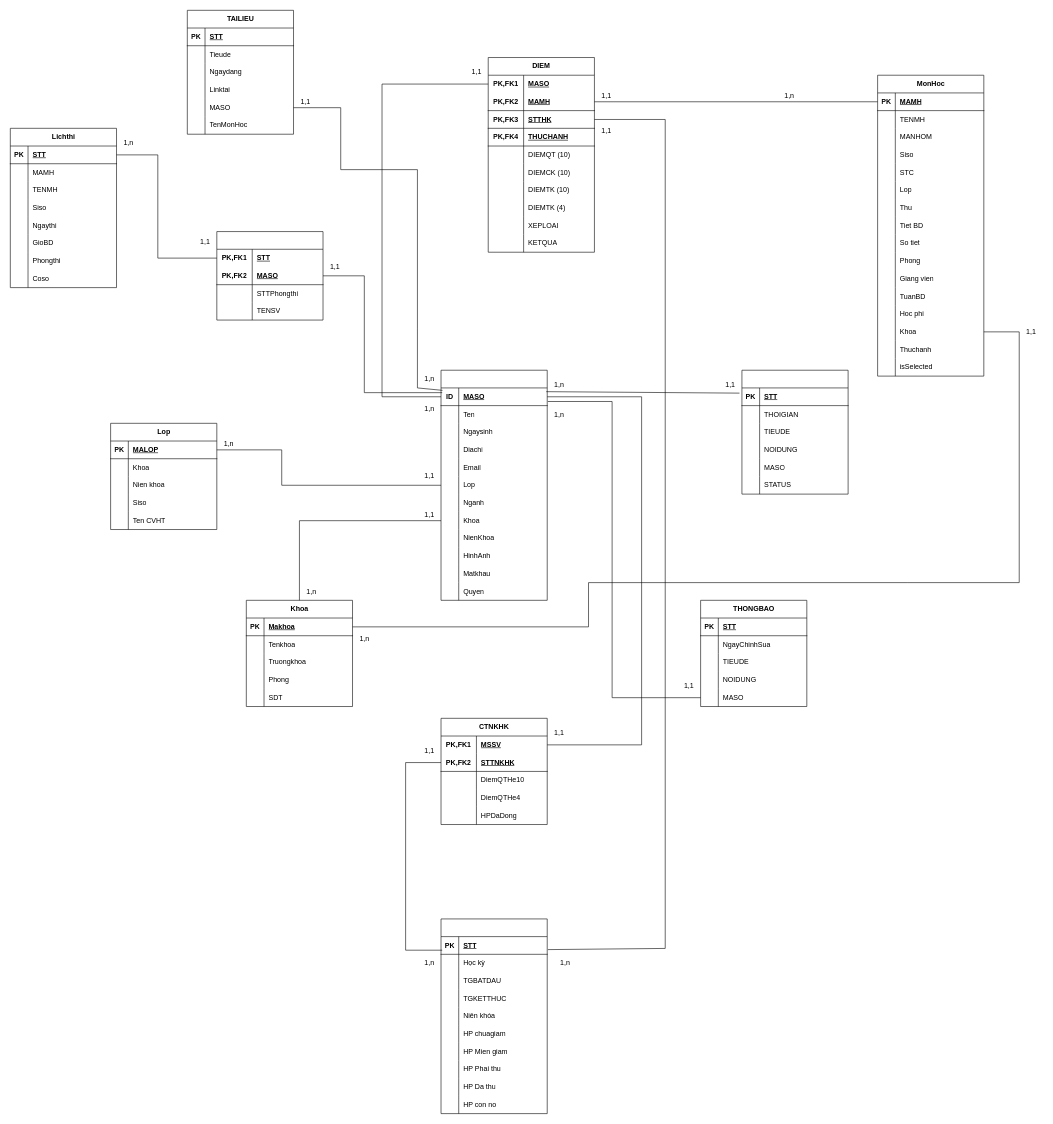
The diagram is 1053 pixels wide and 1124 high, and some of its shapes have lost their labels. Here are the shapes that lost their labels. From the top down, the box of each, then its label:
(216, 231, 323, 320): CT LichThi
(741, 370, 848, 494): Ý kiến
(440, 370, 547, 600): THONGTINCANHAN
(440, 918, 547, 1114): NHHK
